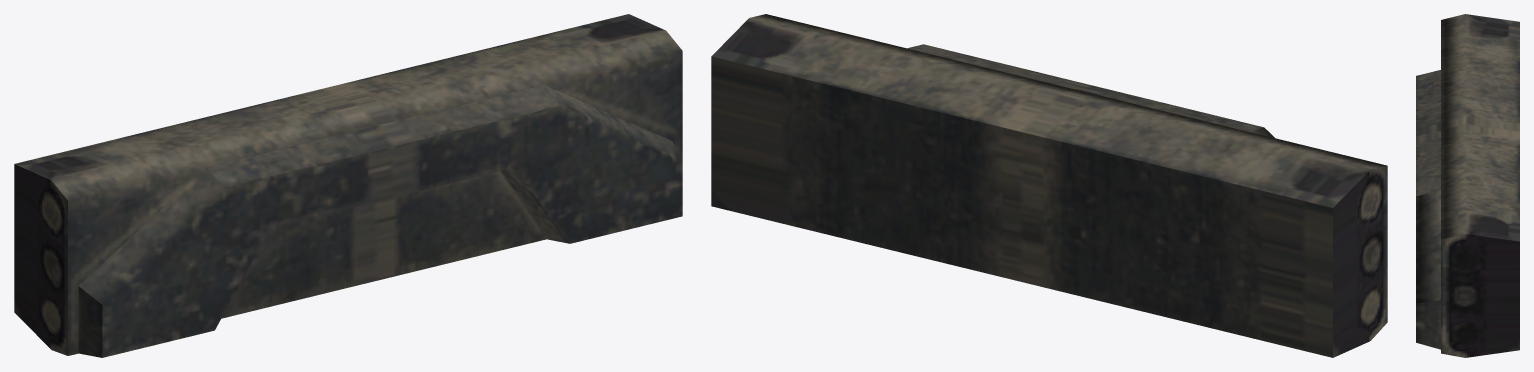
3 views of the same model, side by side, from view 1: azimuth 30°, elevation 25°; view 2: azimuth 150°, elevation 25°; view 3: azimuth 270°, elevation 25° (orthographic). The views are drawn at different scales.
Parts seen in each view (by area): view 1: set_0_group_0; view 2: set_0_group_0; view 3: set_0_group_0.
Part boxes in pixels (x1=…): set_0_group_0: x1=14, y1=14, x2=682, y2=357; set_0_group_0: x1=711, y1=14, x2=1387, y2=357; set_0_group_0: x1=1416, y1=14, x2=1519, y2=357.
Bounding box in the file's own units: 0.6164 × 0.1625 × 0.1232.
Materials: 1 (1 with a texture image).
